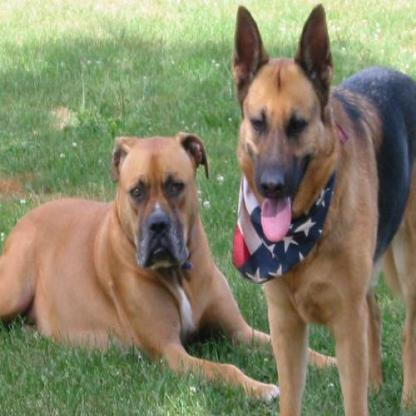bull_mastiff: (0, 132, 339, 400)
